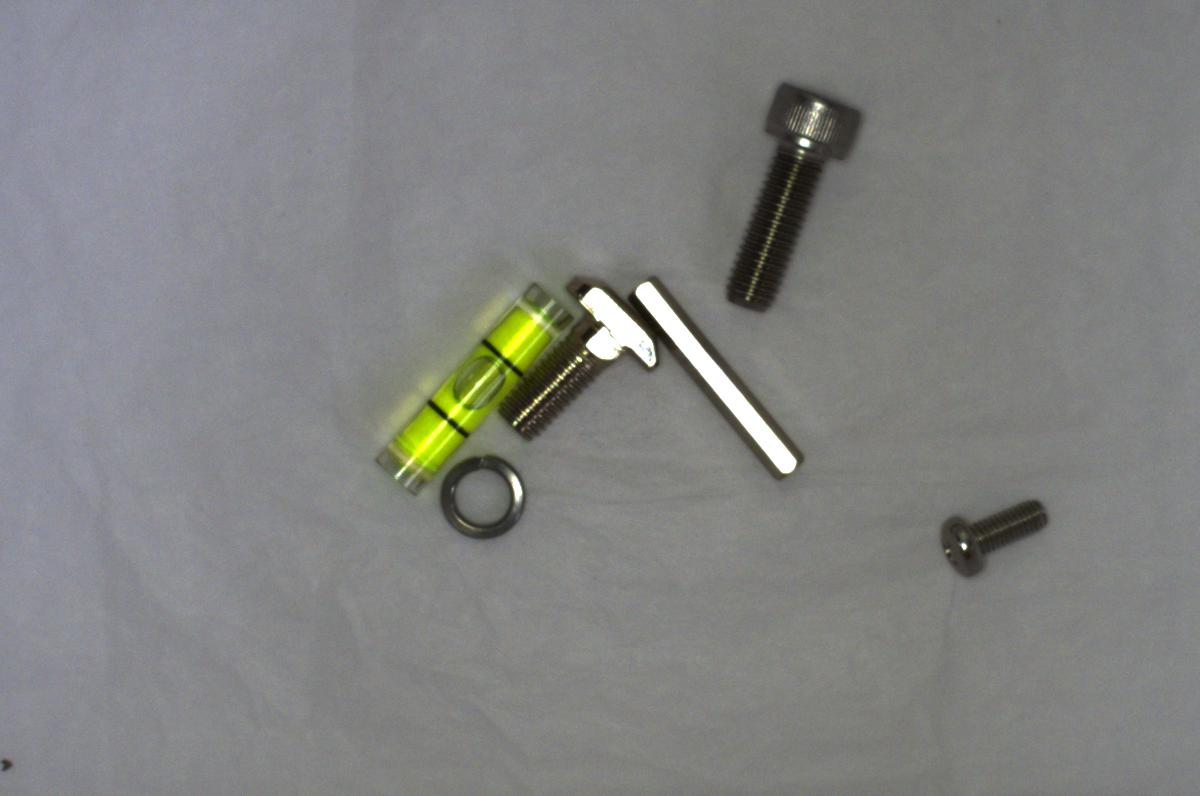Double hexagonal column: (626, 273, 802, 485)
Hexagon screw: (708, 74, 861, 310)
Horizontal bubble: (367, 274, 573, 501)
Round head screw: (927, 492, 1057, 579)
Spring washer: (434, 452, 531, 543)
T-shaped screw: (502, 274, 658, 430)
